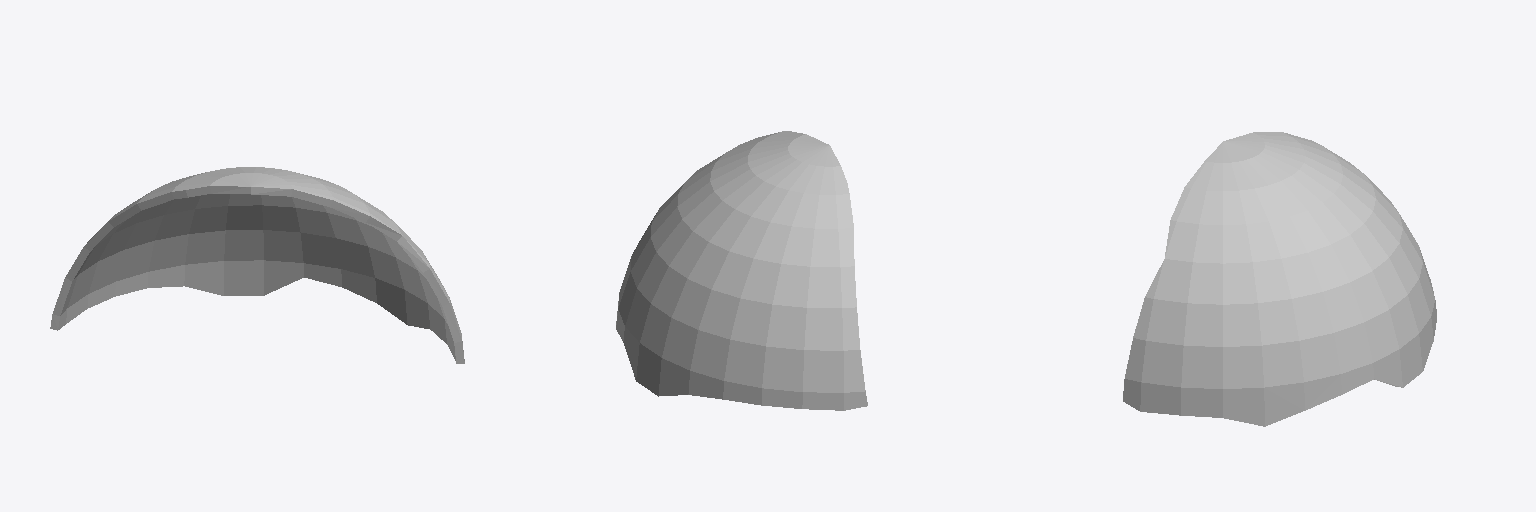
Rendered from ball_piece4.obj.
3 renders of one model, left to right at view 1: azimuth 30°, elevation 25°; view 2: azimuth 150°, elevation 25°; view 3: azimuth 270°, elevation 25°, orthographic.
Visible parts, largest first — view 1: piece2_Sphere.006; view 2: piece2_Sphere.006; view 3: piece2_Sphere.006.
Boxes of the visible parts, x1=… form: piece2_Sphere.006: x1=50, y1=167, x2=464, y2=363; piece2_Sphere.006: x1=616, y1=131, x2=867, y2=410; piece2_Sphere.006: x1=1123, y1=132, x2=1436, y2=426.
Bounding box in the file's own units: 0.4237 × 0.26 × 0.3774.